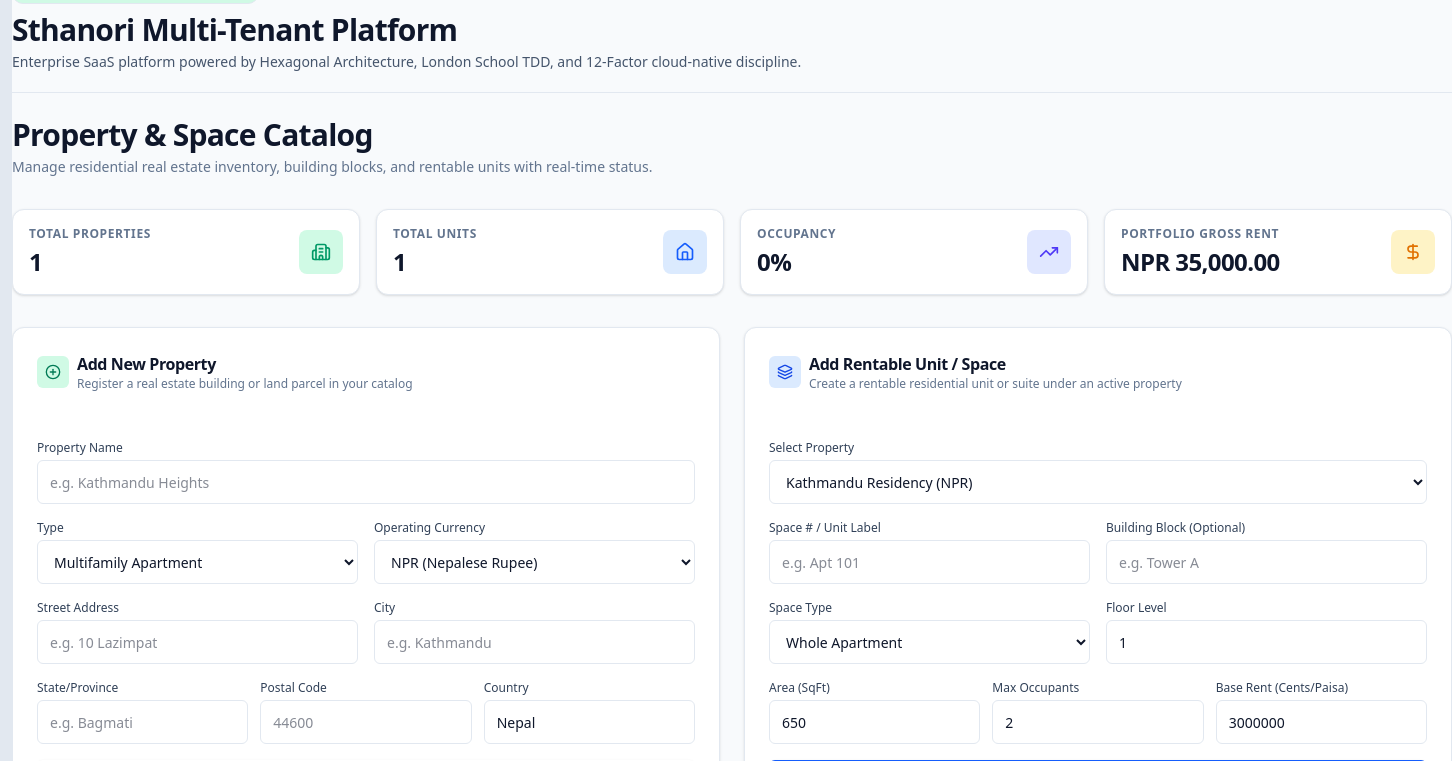
HomeComponent Outside-In UI Acceptance Test › should allow landlord to add a rentable space to an existing property via API
In the field labelled "Space # / Unit Label": (930, 562) [769,540,1090,584], type "Apt 201"
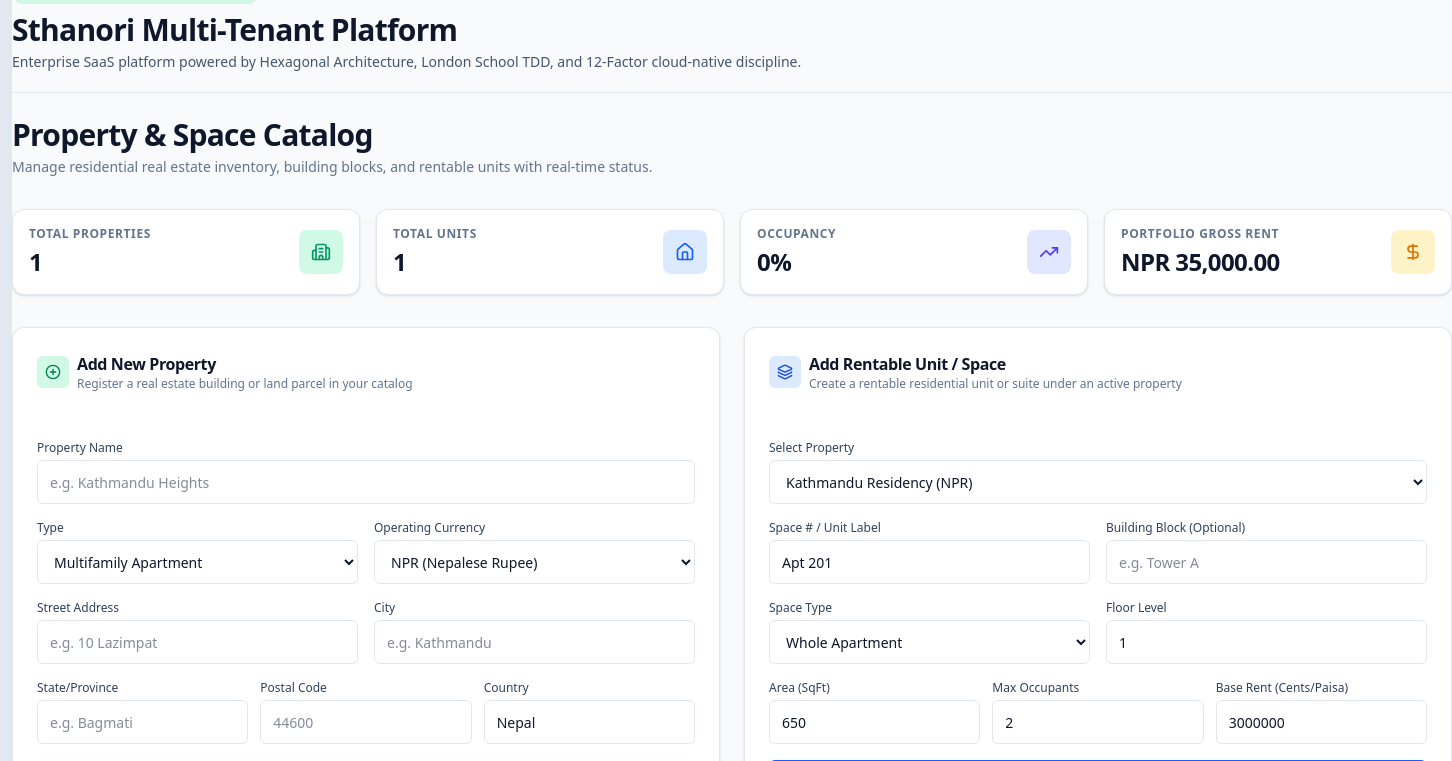
In the field labelled "Building Block (Optional)": (1266, 562) [1106,540,1427,584], type "Block B"
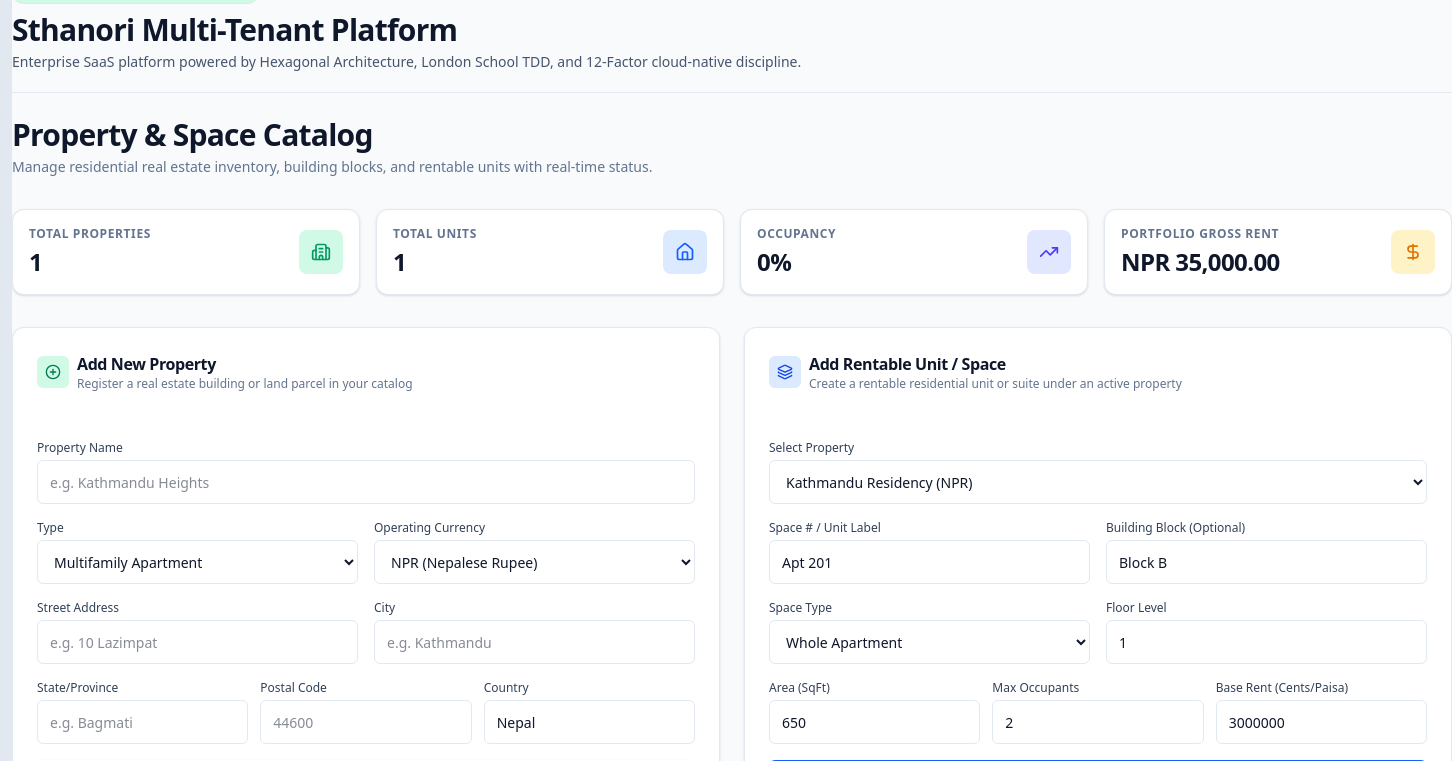
Replace the text in the number field labelled "Base Rent (Cents/Paisa)" with "4500000": (1321, 722) [1216,700,1427,744]
(page scrolled)
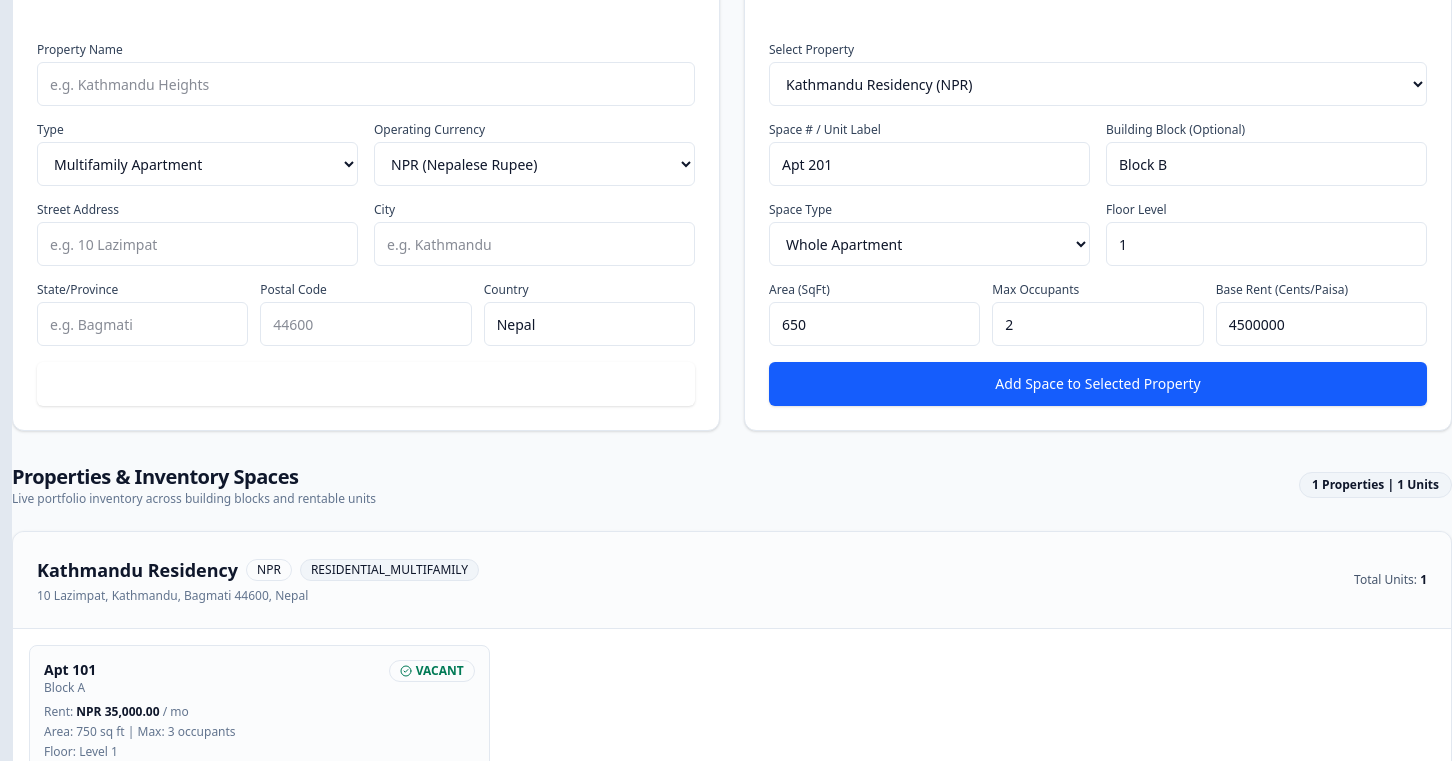
Click the button "Add Space to Selected Property": (1098, 384) [769,362,1427,406]
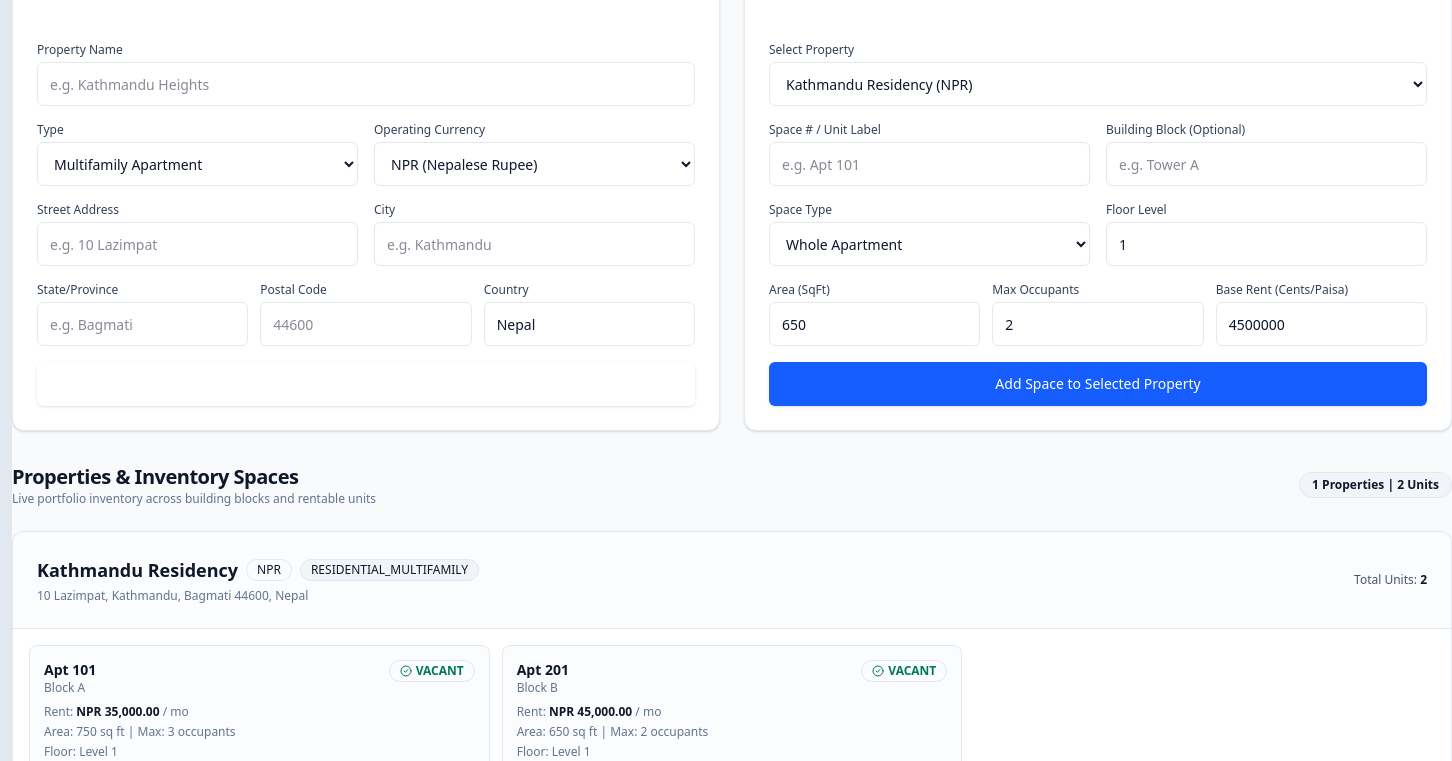
expect the text "Apt 201" is shown: met, box [517,660,569,680]
expect the text "Block B" is shown: met, box [517,679,558,696]
